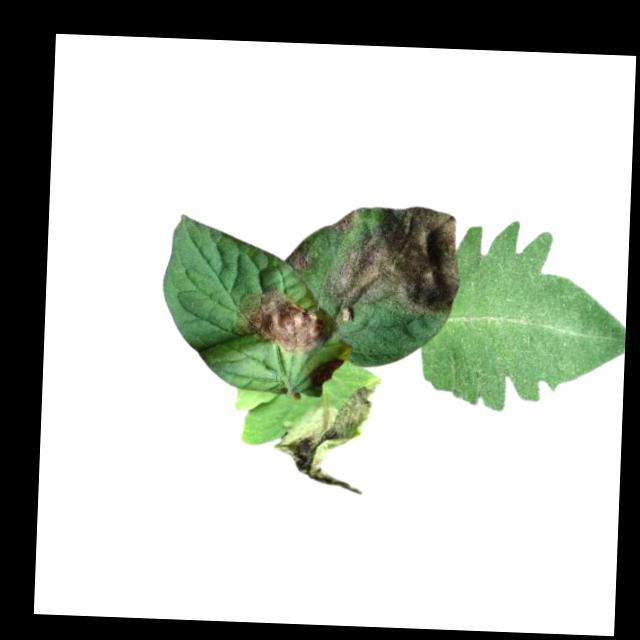Late_blight: (319, 201, 462, 318), (270, 380, 375, 494), (240, 293, 327, 355), (325, 208, 358, 233), (287, 245, 315, 274), (336, 305, 356, 324)
healthy: (413, 218, 628, 417)
